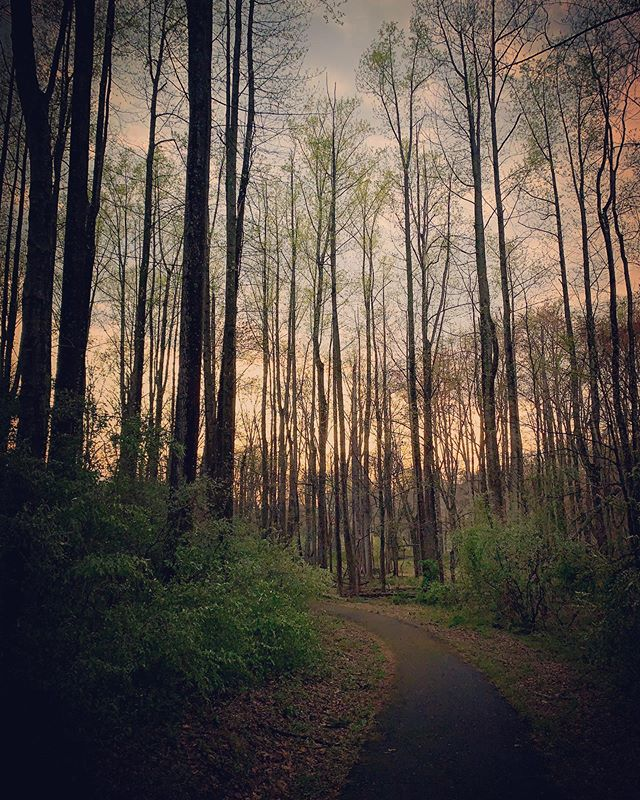pathway: (293, 599, 573, 800)
tree: (126, 1, 261, 547), (261, 76, 396, 600), (1, 1, 106, 499), (555, 1, 640, 572), (454, 1, 523, 585), (398, 22, 453, 604)
vegetation: (26, 485, 306, 759)
